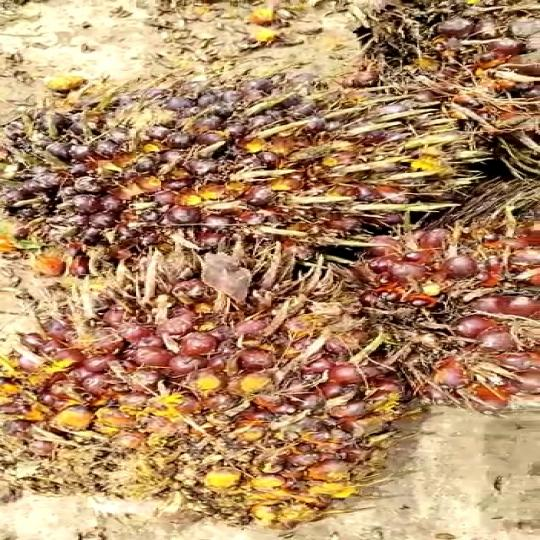masak: (0, 230, 420, 539), (1, 77, 495, 277)
